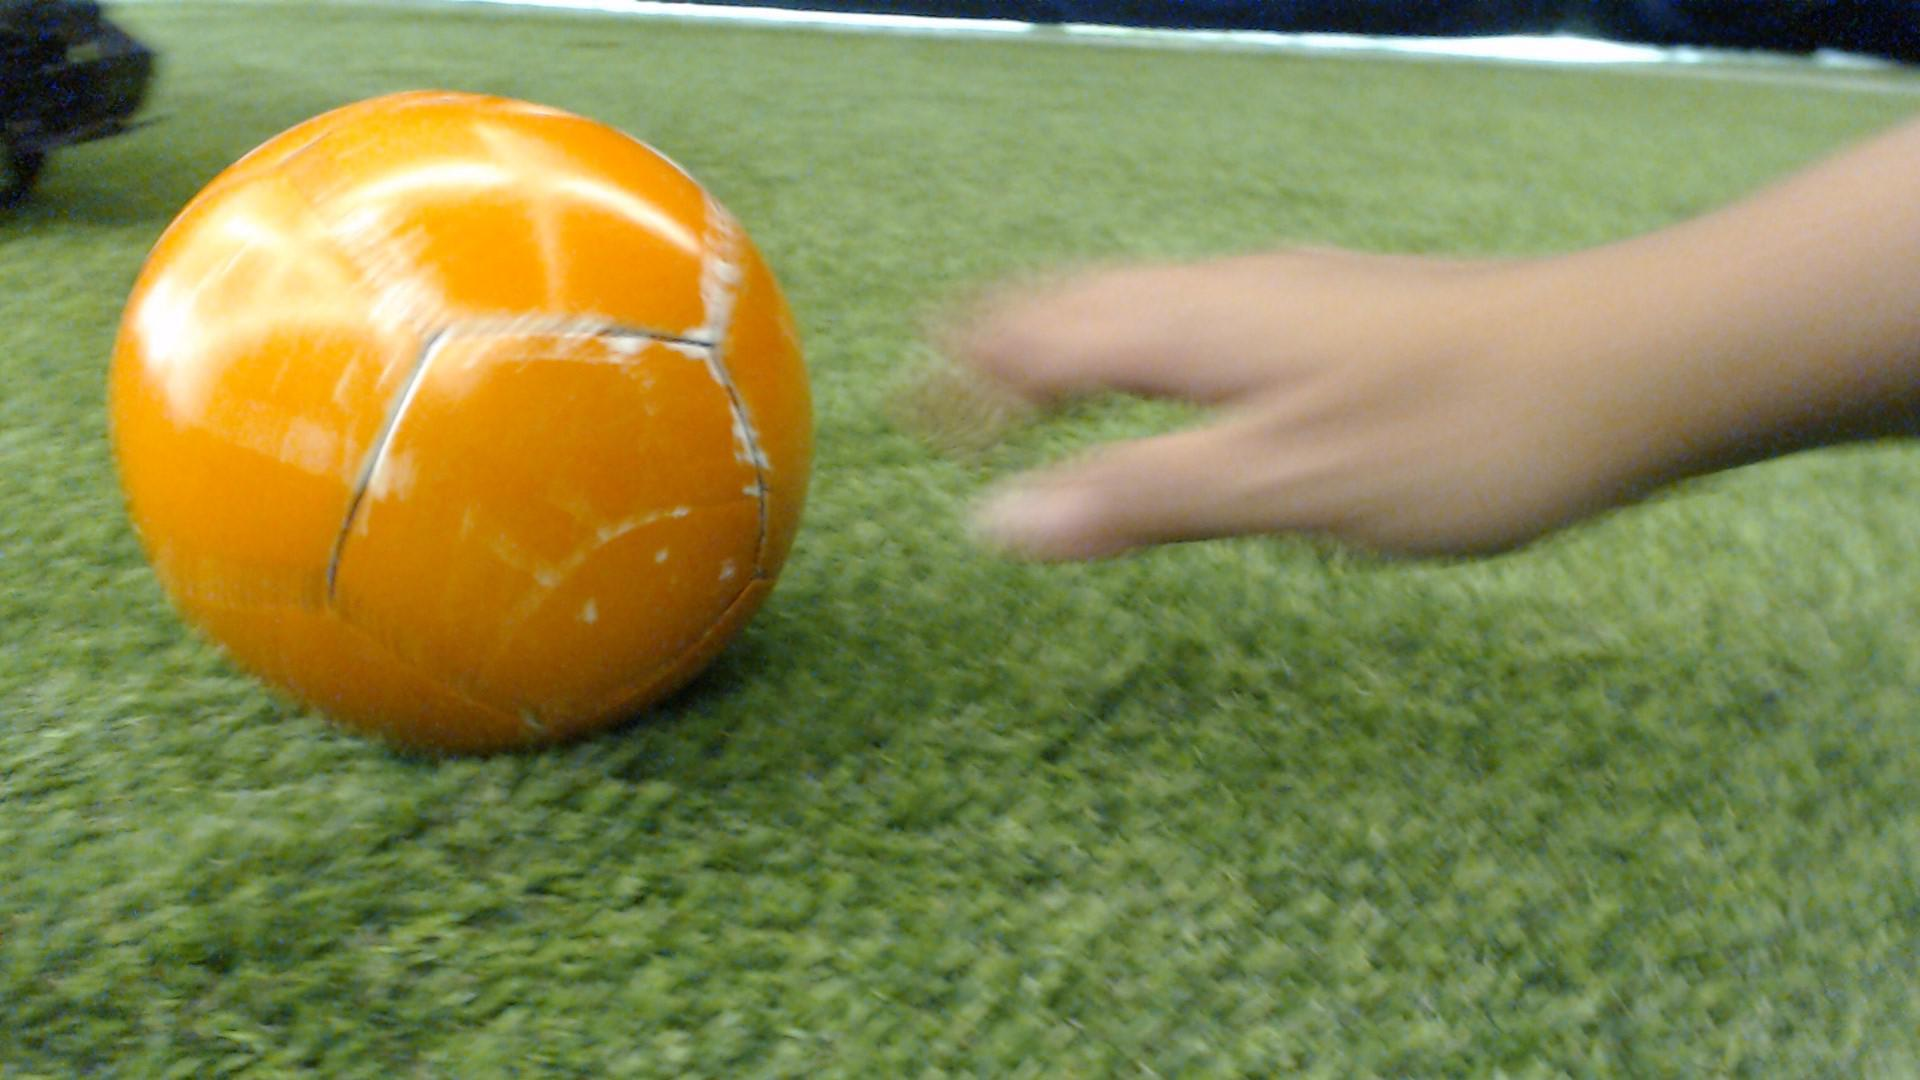bola: (82, 36, 855, 773)
